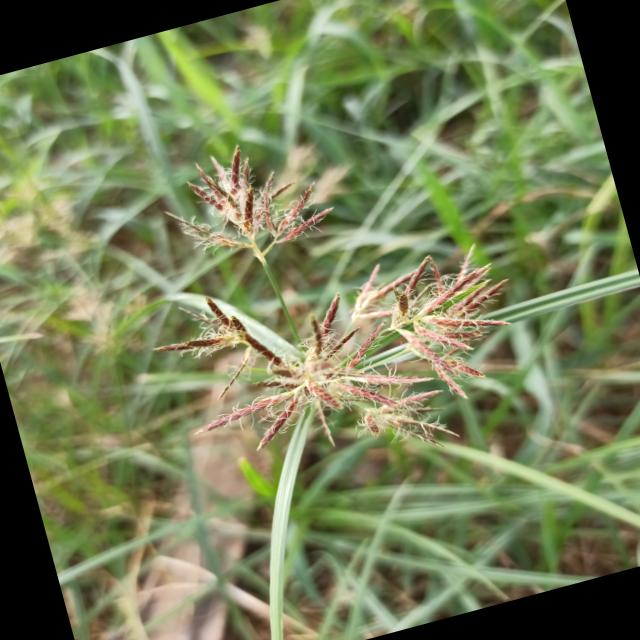cyperus: (144, 217, 556, 512), (140, 115, 358, 292), (0, 102, 20, 234)
